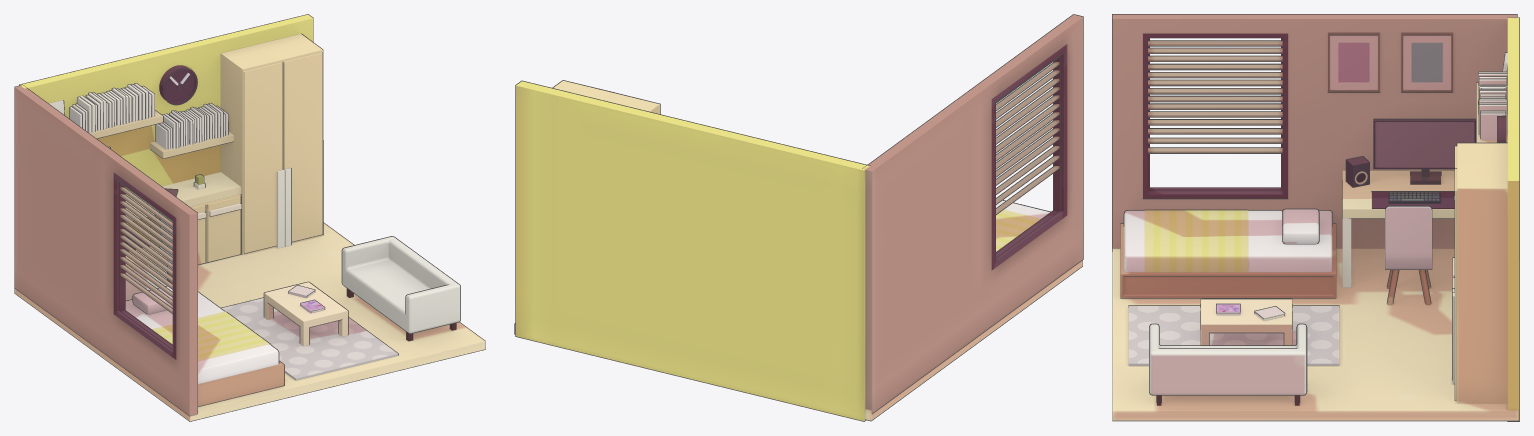
File: little_room-BNOnO3KW.glb
The picture shows the model from 3 angles, left to right: view 1: azimuth 30°, elevation 25°; view 2: azimuth 150°, elevation 25°; view 3: azimuth 270°, elevation 25°; orthographic projection. The views are drawn at different scales.
Parts seen in each view (by area): view 1: Main_object_0, black_object_1; view 2: Main_object_0, black_object_1; view 3: Main_object_0, black_object_1.
Boxes of the visible parts, bbox=[...] form: Main_object_0: bbox=[14, 14, 485, 421]; black_object_1: bbox=[14, 14, 485, 421]; Main_object_0: bbox=[515, 14, 1082, 420]; black_object_1: bbox=[514, 14, 1083, 421]; Main_object_0: bbox=[1112, 14, 1519, 420]; black_object_1: bbox=[1112, 14, 1519, 421].
Bounding box in the file's own units: 2.97 × 1.99 × 3.05.
Materials: 2 (1 with a texture image).
